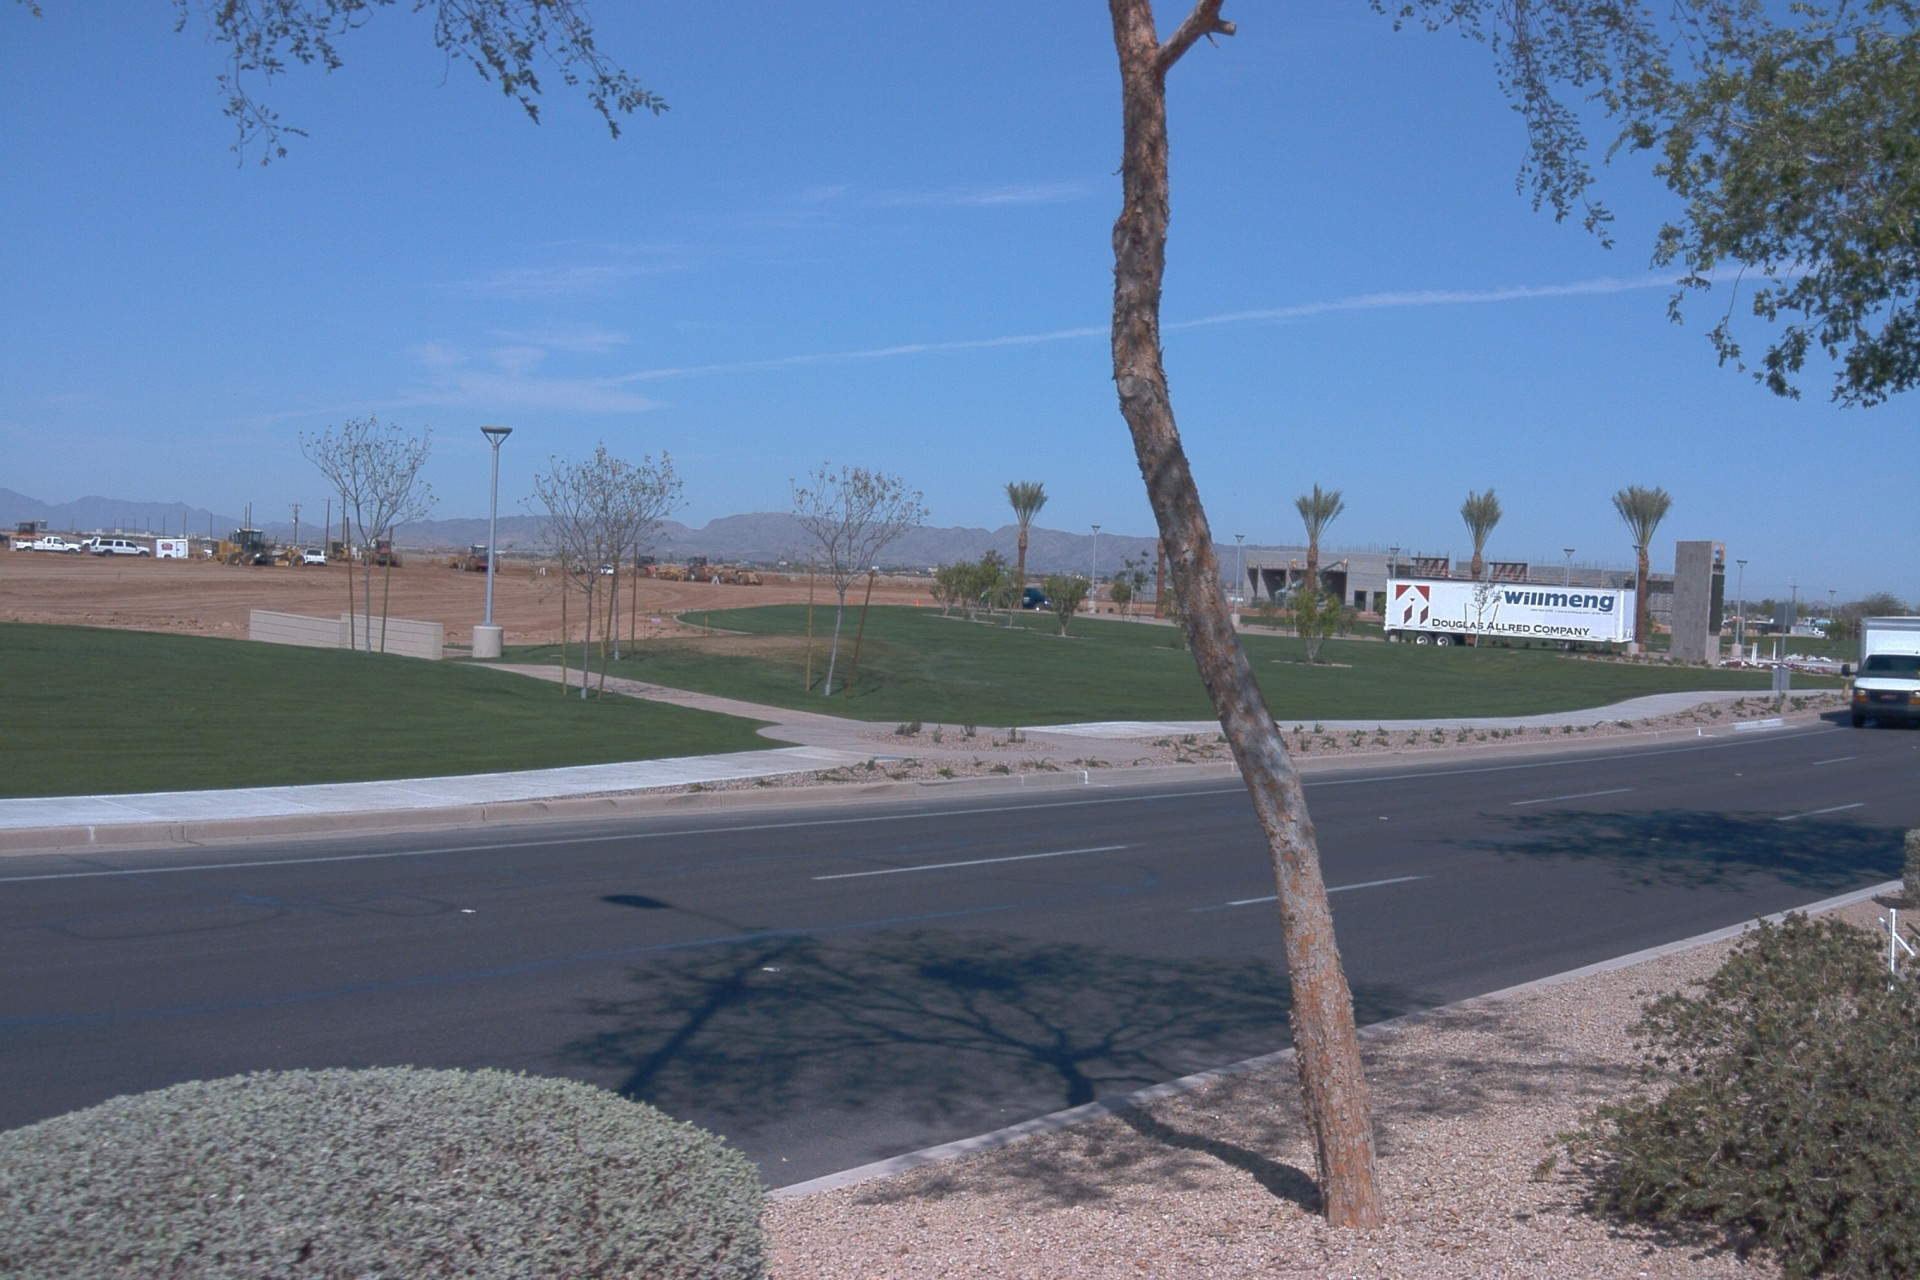TYPE_PEDESTRIAN: (573, 564, 581, 577), (587, 566, 594, 574)
TYPE_VEHICLE: (1380, 576, 1641, 655), (1838, 616, 1920, 730), (195, 524, 305, 569), (1274, 556, 1349, 609), (446, 543, 501, 574), (979, 585, 1055, 607), (17, 536, 85, 557), (360, 537, 402, 569), (87, 536, 148, 556), (154, 536, 190, 556), (328, 542, 356, 563), (307, 548, 330, 566), (81, 534, 101, 548), (601, 564, 616, 578), (202, 548, 217, 561), (0, 533, 10, 547)
